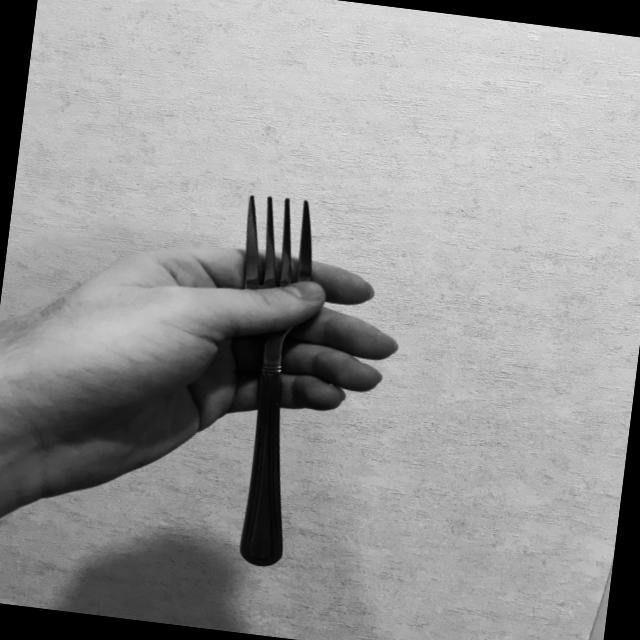fork: (198, 188, 329, 570)
